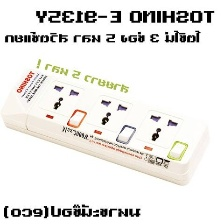three_eye_plug: (0, 64, 215, 187)
